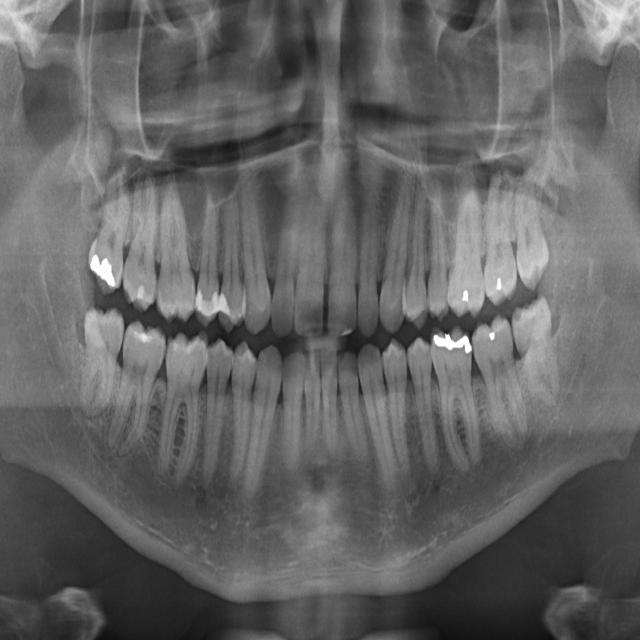AmalgamRestoration: (87, 248, 116, 294), (432, 325, 470, 355), (487, 324, 500, 348), (492, 271, 505, 294), (459, 286, 472, 306)
CompositeResinRestoration: (198, 299, 218, 321), (135, 281, 149, 302), (220, 297, 229, 315)
Crown: (195, 282, 207, 304), (212, 285, 224, 301)
DentalCaries: (460, 349, 472, 378)
ImpactedTooth: (81, 298, 124, 409)
